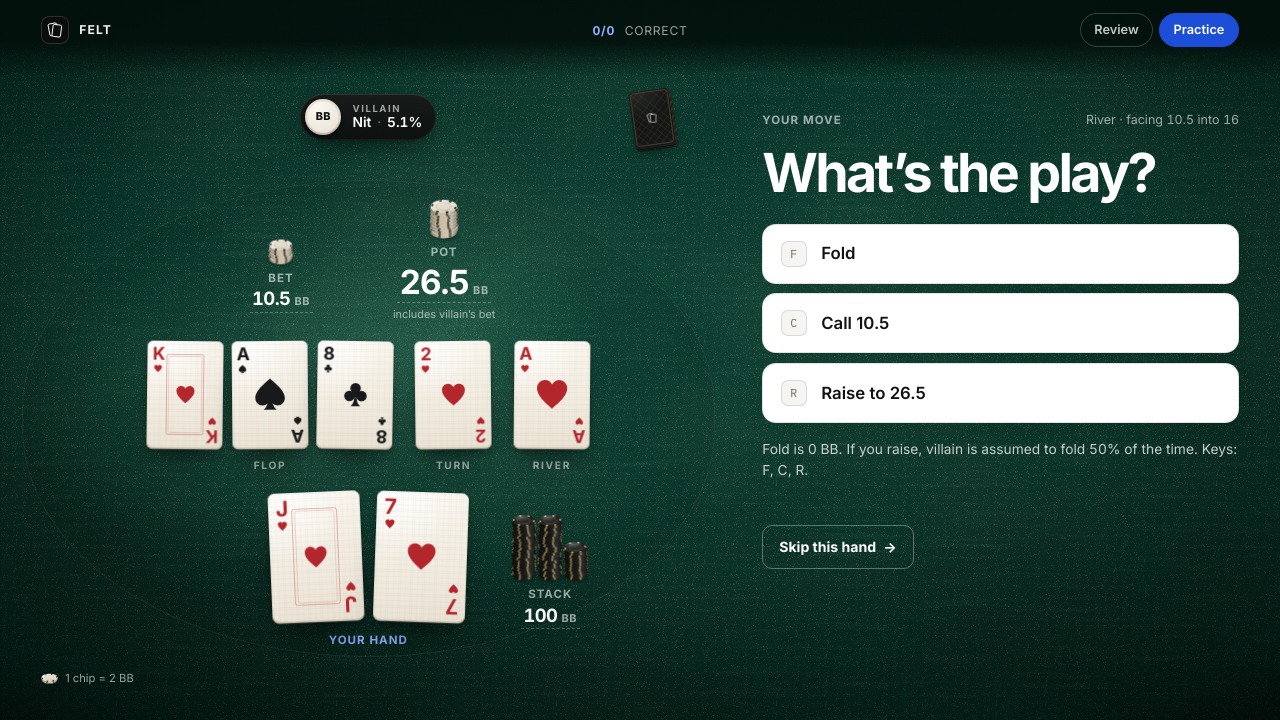
Test: scores a practice decision and reveals the modeled best action
Click the button "F Fold" at (838, 253), box [762,224,1239,284]
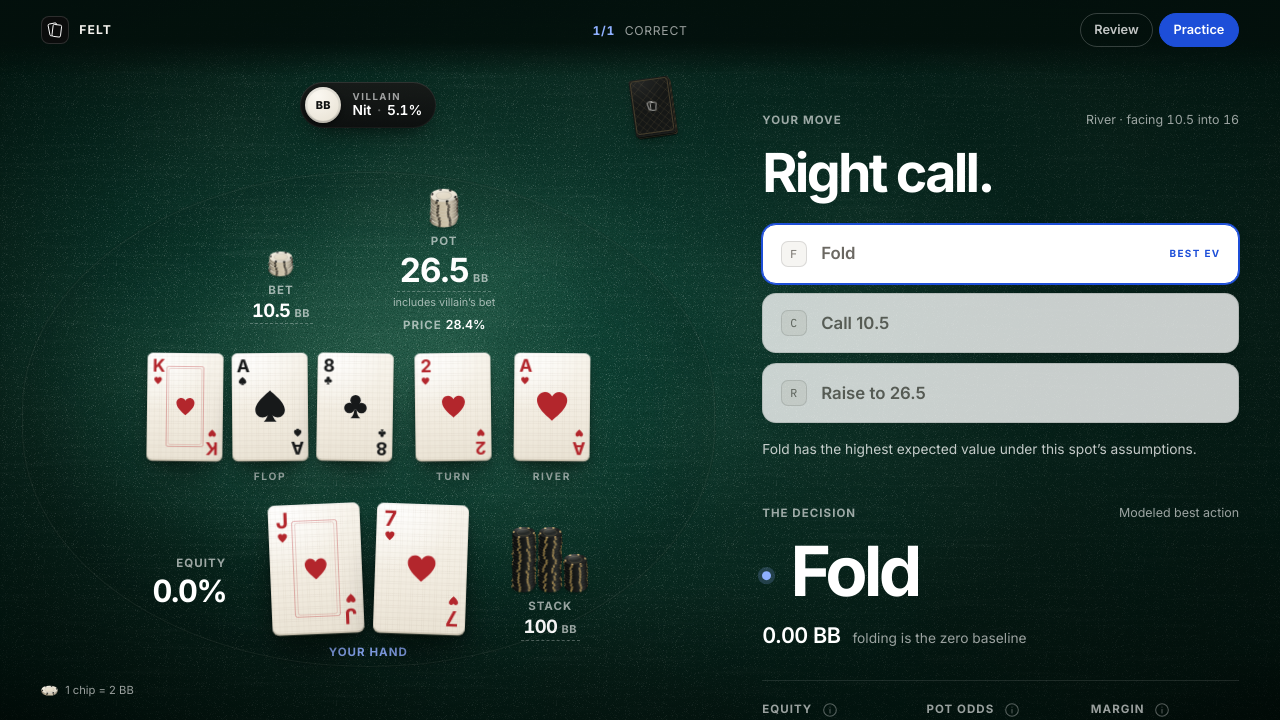
Expected: the text "Best EV" is shown once, [1170,246,1221,261]
Expected: the text "1/1" is shown, [592,22,615,41]
